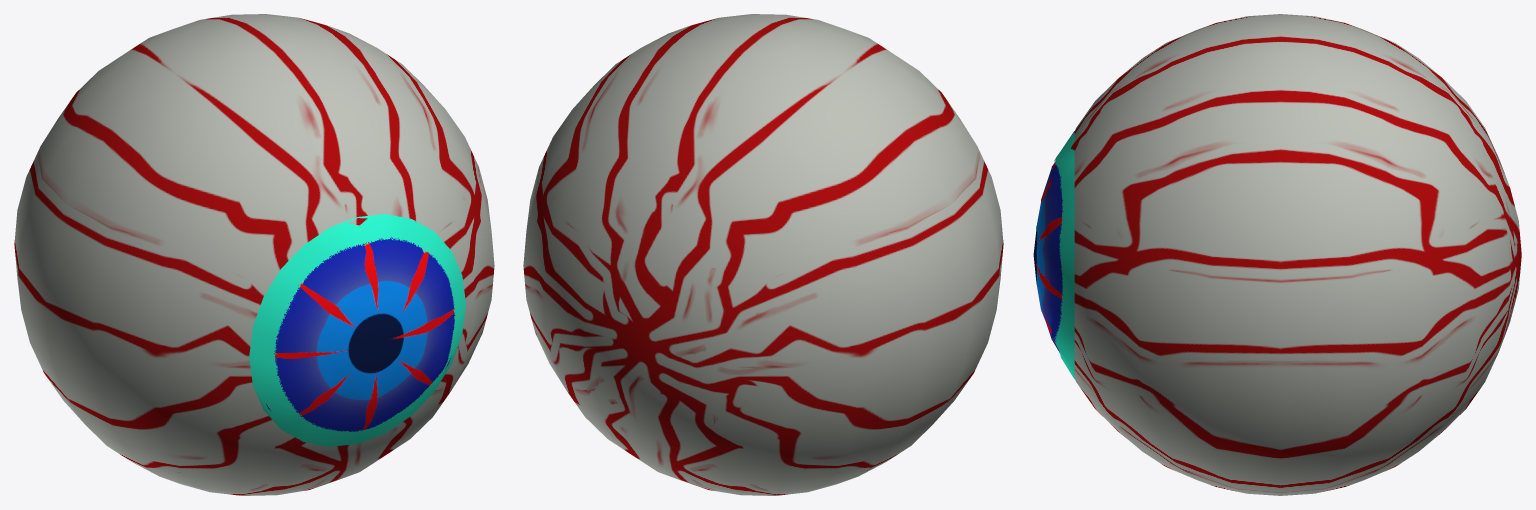
Rendered from eye.fbx.
3 views of the same model, side by side, from view 1: azimuth 30°, elevation 25°; view 2: azimuth 150°, elevation 25°; view 3: azimuth 270°, elevation 25° (orthographic).
Visible parts, largest first — view 1: root1, eye2, contact; view 2: root1; view 3: root1, eye2, contact.
Part boxes in pixels (<box>): root1: <box>14,14,494,495</box>; eye2: <box>266,237,455,431</box>; contact: <box>249,214,465,446</box>; root1: <box>523,14,1003,495</box>; root1: <box>1071,14,1521,495</box>; eye2: <box>1033,162,1062,352</box>; contact: <box>1054,131,1074,378</box>.
Size of the model in its own units: 64 by 64 by 64.97.
